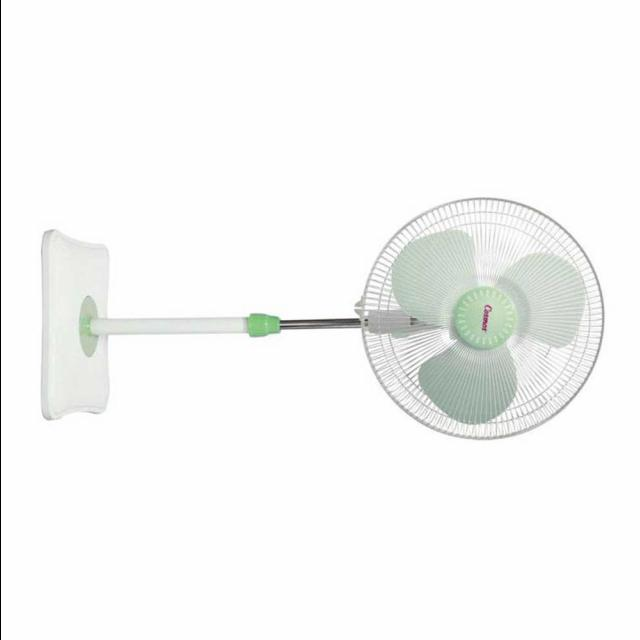fan: (33, 197, 603, 445)
